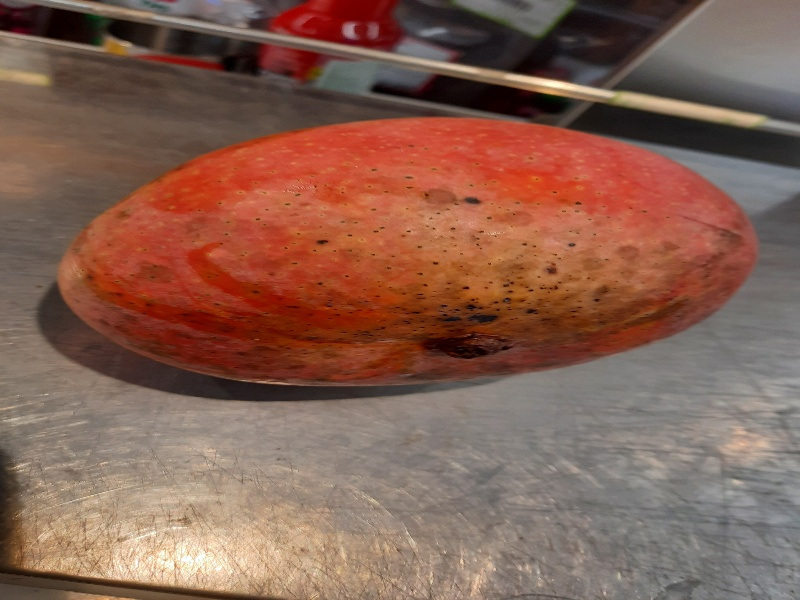fruit: (58, 112, 762, 393)
